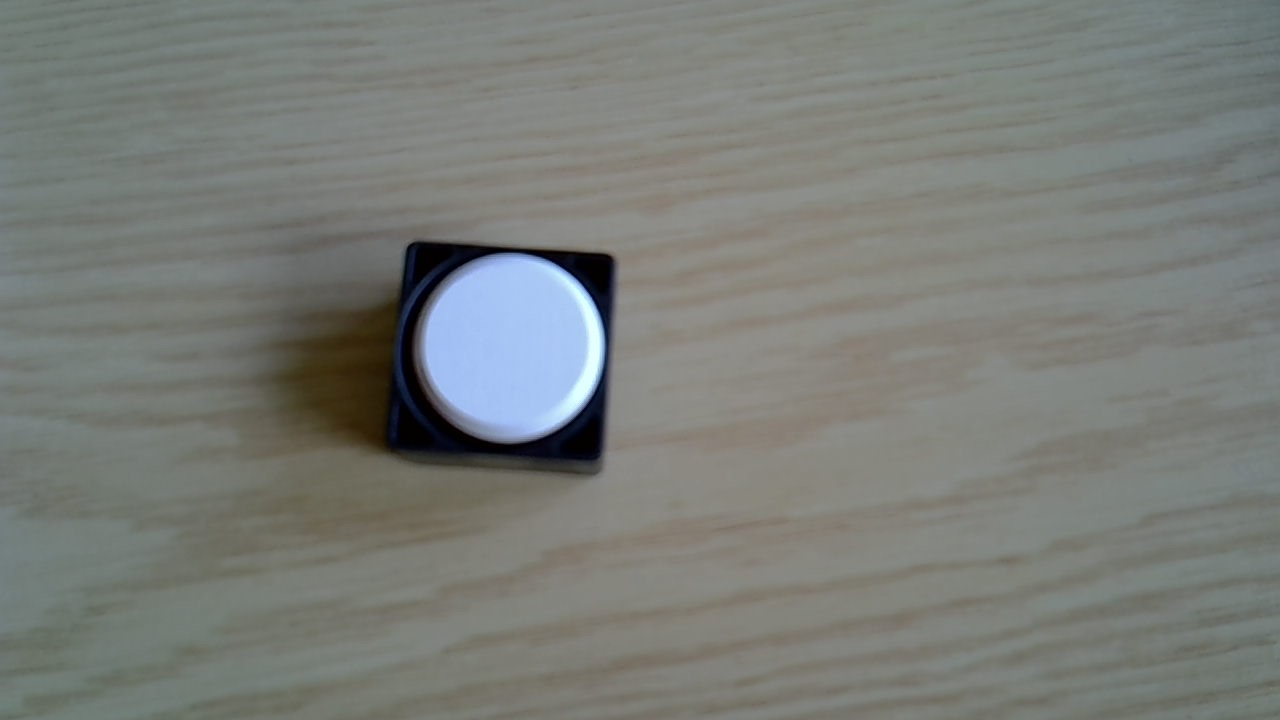Behaelter: (383, 239, 618, 474)
WerkStueck: (413, 254, 610, 444)
